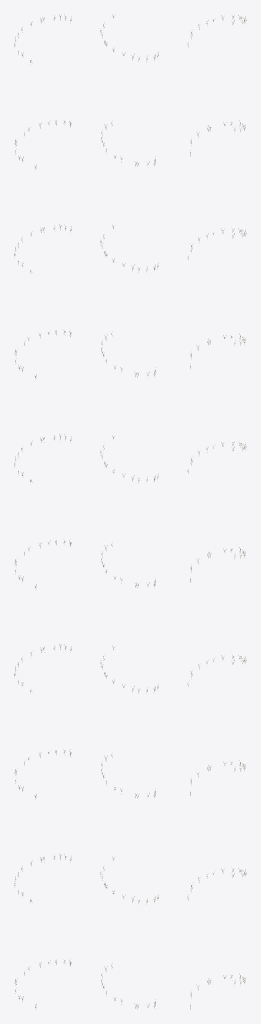
The model's file is Circle7Crowd1.obj.
3 renders of one model, left to right at view 1: azimuth 30°, elevation 25°; view 2: azimuth 150°, elevation 25°; view 3: azimuth 330°, elevation 25°, orthographic.
Visible parts, largest first — view 1: Circle7Crowd1; view 2: Circle7Crowd1; view 3: Circle7Crowd1.
Part boxes in pixels (<box>): Circle7Crowd1: <box>14,14,71,1009</box>; Circle7Crowd1: <box>100,14,158,1008</box>; Circle7Crowd1: <box>187,15,246,1009</box>.
Bounding box in the file's own units: 23.01 × 421 × 18.92.
Materials: 1 (1 with a texture image).
